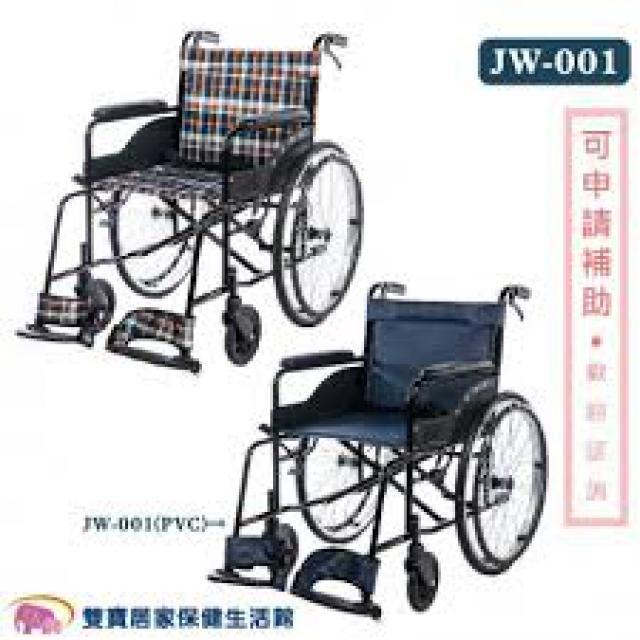wheelchairs: (21, 26, 364, 371), (213, 278, 550, 614)
